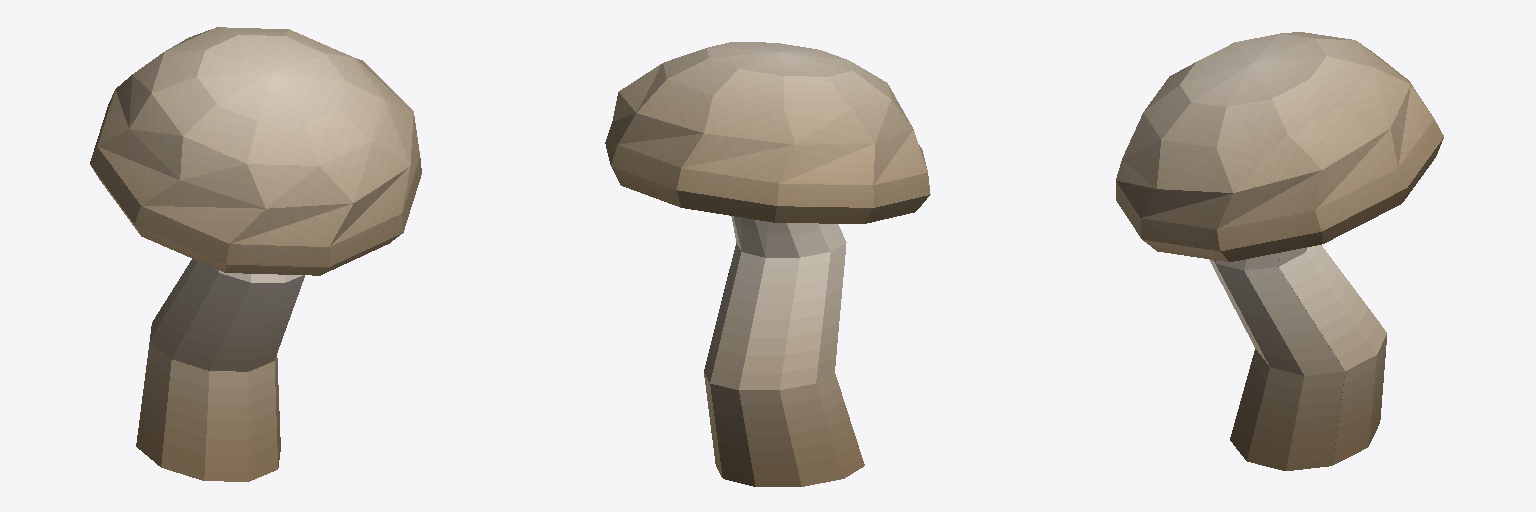
The picture shows the model from 3 angles: view 1: azimuth 30°, elevation 25°; view 2: azimuth 150°, elevation 25°; view 3: azimuth 270°, elevation 25°; orthographic projection.
Parts seen in each view (by area): view 1: pCylinder6; view 2: pCylinder6; view 3: pCylinder6.
Boxes of the visible parts, x1=… form: pCylinder6: x1=90, y1=27, x2=421, y2=481; pCylinder6: x1=605, y1=42, x2=930, y2=486; pCylinder6: x1=1116, y1=32, x2=1443, y2=470.
Size of the model in its own units: 34.71 by 47.36 by 34.79.
1 materials, 1 textured.